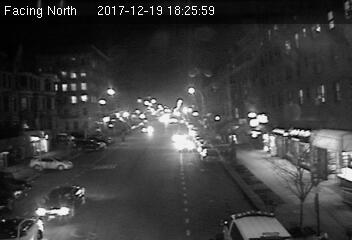car: (33, 184, 87, 221)
police: (217, 207, 292, 240)
